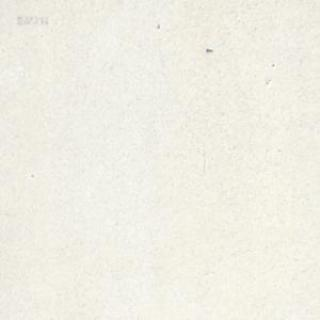Nailtrack_idkeyframe: (205, 46, 212, 51)
